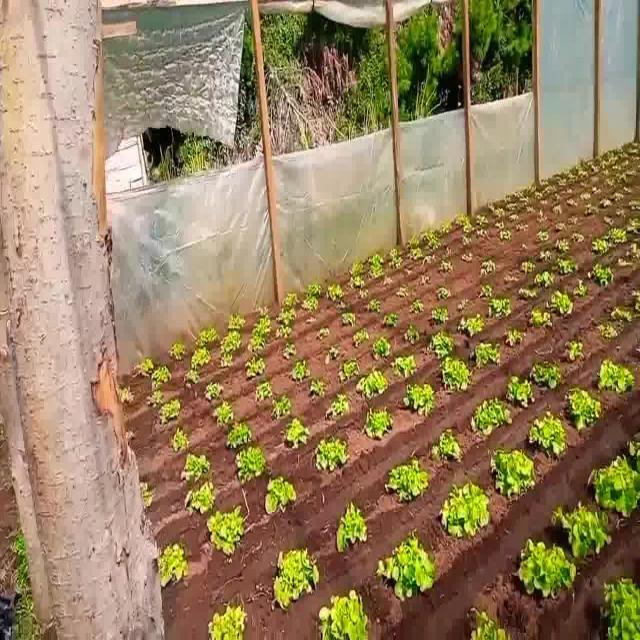Lettuce: (517, 538, 576, 600), (379, 535, 434, 599), (592, 454, 640, 518), (552, 503, 612, 554), (276, 547, 320, 608), (317, 589, 369, 640), (442, 482, 489, 538), (599, 578, 640, 640), (491, 450, 535, 497), (206, 508, 246, 556), (385, 459, 427, 501), (528, 413, 566, 455), (338, 502, 366, 554), (567, 386, 599, 431), (472, 398, 510, 434), (206, 606, 246, 640), (469, 610, 514, 640), (158, 543, 187, 589), (314, 436, 348, 474), (265, 476, 296, 516), (598, 359, 634, 393), (440, 356, 472, 392), (235, 444, 265, 482), (364, 406, 394, 441), (184, 482, 216, 514), (404, 382, 434, 416), (179, 451, 211, 482), (504, 374, 534, 407), (531, 358, 561, 391), (435, 428, 462, 460), (358, 369, 388, 397), (227, 422, 254, 450), (429, 333, 453, 361), (285, 420, 308, 449), (476, 341, 500, 368), (526, 307, 554, 330), (458, 315, 486, 336), (551, 292, 575, 316), (590, 263, 614, 286), (338, 359, 360, 384), (392, 356, 416, 378), (488, 297, 512, 319), (371, 336, 392, 361), (271, 394, 291, 420), (212, 401, 234, 424), (327, 394, 348, 418), (598, 319, 622, 340), (151, 364, 171, 389), (611, 303, 637, 322), (220, 331, 242, 353), (247, 332, 268, 354), (505, 327, 528, 347), (172, 428, 190, 453), (133, 357, 154, 378), (190, 347, 212, 367), (196, 326, 218, 346), (564, 339, 583, 362), (307, 379, 327, 400), (290, 360, 310, 381), (160, 401, 180, 422), (401, 324, 420, 346), (246, 356, 264, 378), (534, 270, 554, 289), (429, 306, 449, 325), (608, 225, 627, 244), (205, 382, 224, 401), (168, 342, 187, 360), (253, 316, 272, 334), (554, 257, 574, 274), (552, 235, 570, 253), (518, 286, 540, 300), (592, 236, 610, 253), (183, 370, 200, 388), (326, 284, 344, 301), (255, 383, 272, 400), (574, 279, 590, 297), (228, 314, 246, 330), (276, 323, 294, 339), (146, 391, 162, 408), (284, 292, 301, 308), (625, 216, 640, 234), (276, 310, 294, 325), (326, 344, 339, 364), (479, 260, 495, 276), (409, 299, 425, 315), (354, 329, 368, 347), (479, 284, 494, 300), (282, 342, 297, 358), (349, 261, 365, 276), (369, 262, 384, 278), (418, 230, 434, 245), (436, 286, 450, 302), (302, 297, 319, 310), (438, 223, 456, 235), (382, 313, 397, 327), (341, 312, 356, 326), (307, 283, 322, 297), (389, 255, 404, 269), (427, 238, 442, 252), (520, 261, 536, 274), (454, 213, 470, 226), (221, 351, 234, 367), (349, 276, 365, 289), (407, 248, 424, 260), (537, 248, 551, 262), (437, 260, 453, 272), (536, 229, 549, 243), (476, 227, 489, 241), (600, 154, 614, 167), (615, 149, 628, 163), (536, 209, 548, 224), (584, 202, 595, 218), (368, 253, 384, 264), (615, 170, 627, 184), (506, 202, 520, 214), (523, 184, 537, 196), (625, 142, 639, 154), (255, 306, 269, 318), (366, 300, 380, 312), (570, 232, 585, 243), (493, 209, 508, 220), (567, 213, 579, 226), (600, 197, 612, 210), (610, 190, 623, 202), (590, 184, 603, 196), (518, 197, 531, 209), (406, 235, 418, 248), (516, 221, 530, 232), (578, 191, 592, 202), (318, 326, 329, 340), (628, 198, 640, 210), (620, 183, 632, 195), (476, 214, 488, 226), (504, 190, 516, 202), (397, 285, 408, 298), (498, 230, 512, 240), (335, 300, 349, 310), (603, 215, 614, 227), (552, 203, 563, 215), (463, 222, 474, 234), (558, 180, 570, 191), (566, 174, 578, 185), (419, 275, 431, 286), (460, 234, 470, 247), (533, 190, 546, 200), (305, 314, 318, 324), (387, 248, 400, 258), (554, 222, 565, 233), (461, 252, 473, 262), (486, 200, 498, 210), (588, 166, 600, 176), (545, 185, 558, 194), (567, 198, 578, 208), (604, 177, 615, 187), (509, 212, 520, 222), (359, 288, 370, 298), (615, 206, 624, 218), (525, 205, 535, 215), (578, 172, 588, 182), (514, 191, 526, 199), (495, 220, 505, 229), (384, 275, 392, 285), (613, 163, 621, 171), (604, 168, 611, 176)
